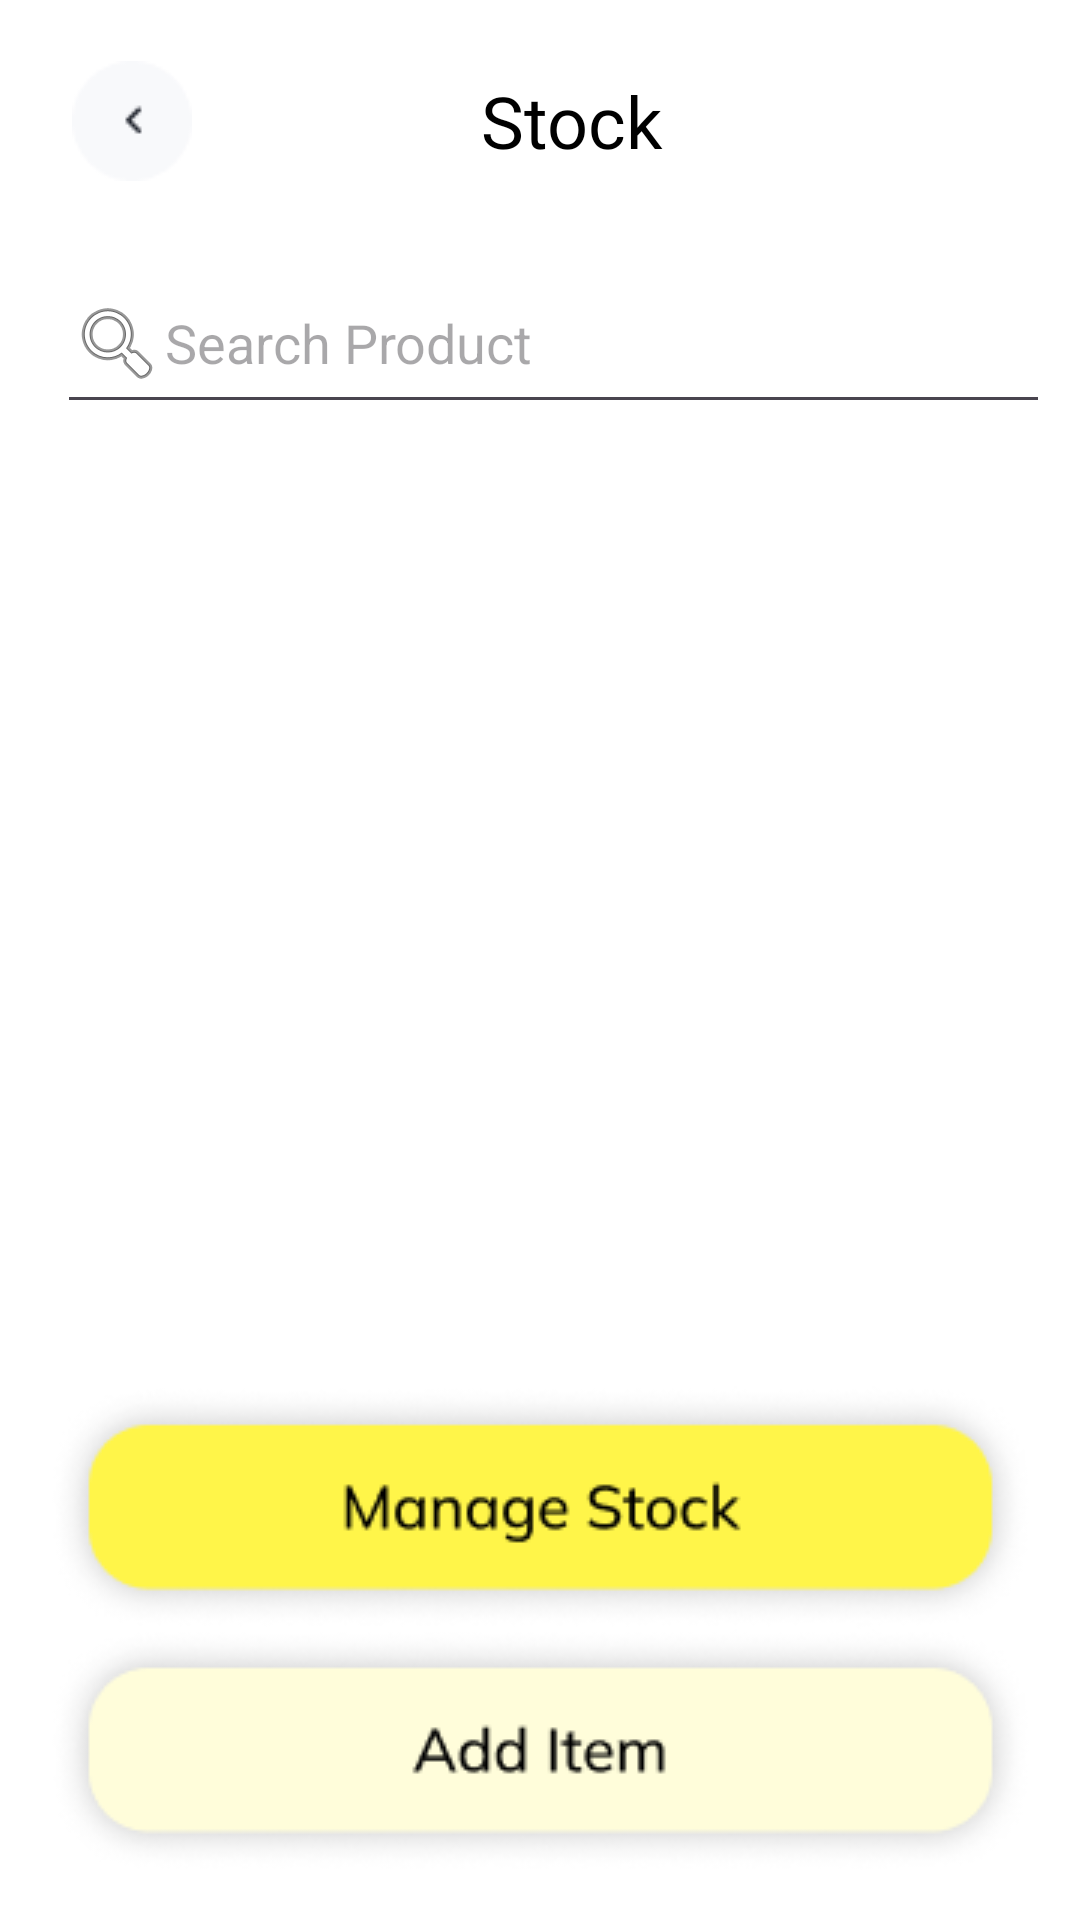

Where icons sit on this 1080*1920 app screen, as (x1=x1, y1=y1, x2=x2, y2=y2):
back: (x1=125, y1=105, x2=142, y2=134)
